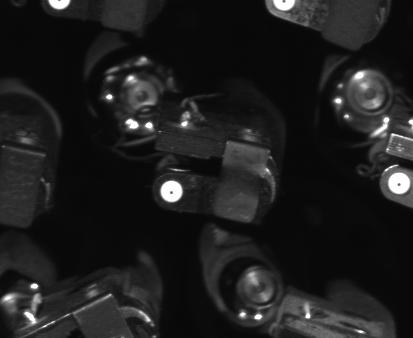fiber: (156, 177, 190, 206), (385, 168, 413, 200), (271, 1, 302, 19), (42, 1, 78, 12)
